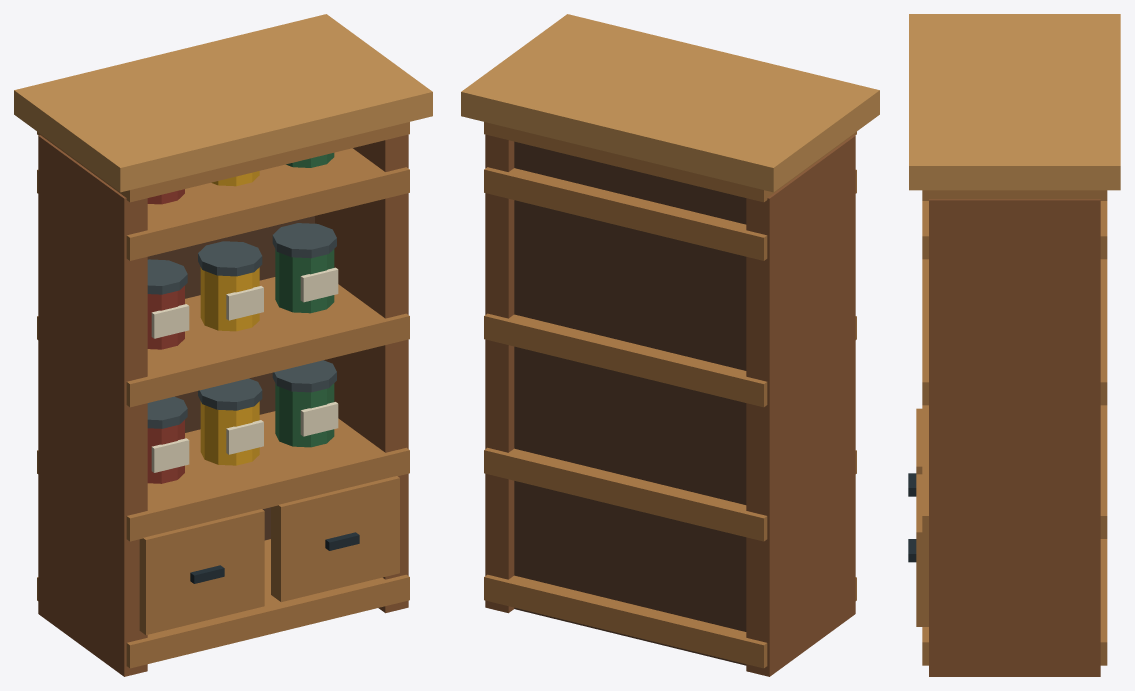
Rendered from storage_set__food_cupboard.glb.
The picture shows the model from 3 angles, left to right: view 1: azimuth 30°, elevation 25°; view 2: azimuth 150°, elevation 25°; view 3: azimuth 270°, elevation 25°; orthographic projection.
Visible parts, largest first — view 1: food_cupboard__wood2.001, food_cupboard__wood.001, food_cupboard__wood3.001, food_cupboard__metal.001, food_cupboard__cream.001, food_cupboard__yellow.001, food_cupboard__green.001, food_cupboard__wood_dark.001, food_cupboard__food.001, food_cupboard__dark.001; view 2: food_cupboard__wood_dark.001, food_cupboard__wood.001, food_cupboard__wood3.001, food_cupboard__wood2.001; view 3: food_cupboard__wood.001, food_cupboard__wood3.001, food_cupboard__wood2.001, food_cupboard__dark.001.
Part boxes in pixels (x1=…): food_cupboard__wood2.001: x1=37, y1=122, x2=409, y2=668; food_cupboard__wood.001: x1=38, y1=134, x2=408, y2=676; food_cupboard__wood3.001: x1=14, y1=14, x2=432, y2=192; food_cupboard__metal.001: x1=147, y1=223, x2=336, y2=428; food_cupboard__cream.001: x1=151, y1=267, x2=338, y2=472; food_cupboard__yellow.001: x1=200, y1=171, x2=259, y2=465; food_cupboard__green.001: x1=275, y1=153, x2=334, y2=447; food_cupboard__wood_dark.001: x1=147, y1=216, x2=314, y2=540; food_cupboard__food.001: x1=147, y1=189, x2=184, y2=483; food_cupboard__dark.001: x1=190, y1=532, x2=359, y2=583; food_cupboard__wood_dark.001: x1=514, y1=141, x2=746, y2=665; food_cupboard__wood.001: x1=485, y1=134, x2=855, y2=676; food_cupboard__wood3.001: x1=461, y1=14, x2=879, y2=192; food_cupboard__wood2.001: x1=484, y1=122, x2=856, y2=668; food_cupboard__wood.001: x1=929, y1=199, x2=1100, y2=676; food_cupboard__wood3.001: x1=909, y1=14, x2=1120, y2=190; food_cupboard__wood2.001: x1=916, y1=190, x2=1107, y2=665; food_cupboard__dark.001: x1=908, y1=473, x2=916, y2=562.
Size of the model in its own units: 1.34 by 2.13 by 0.7925.
